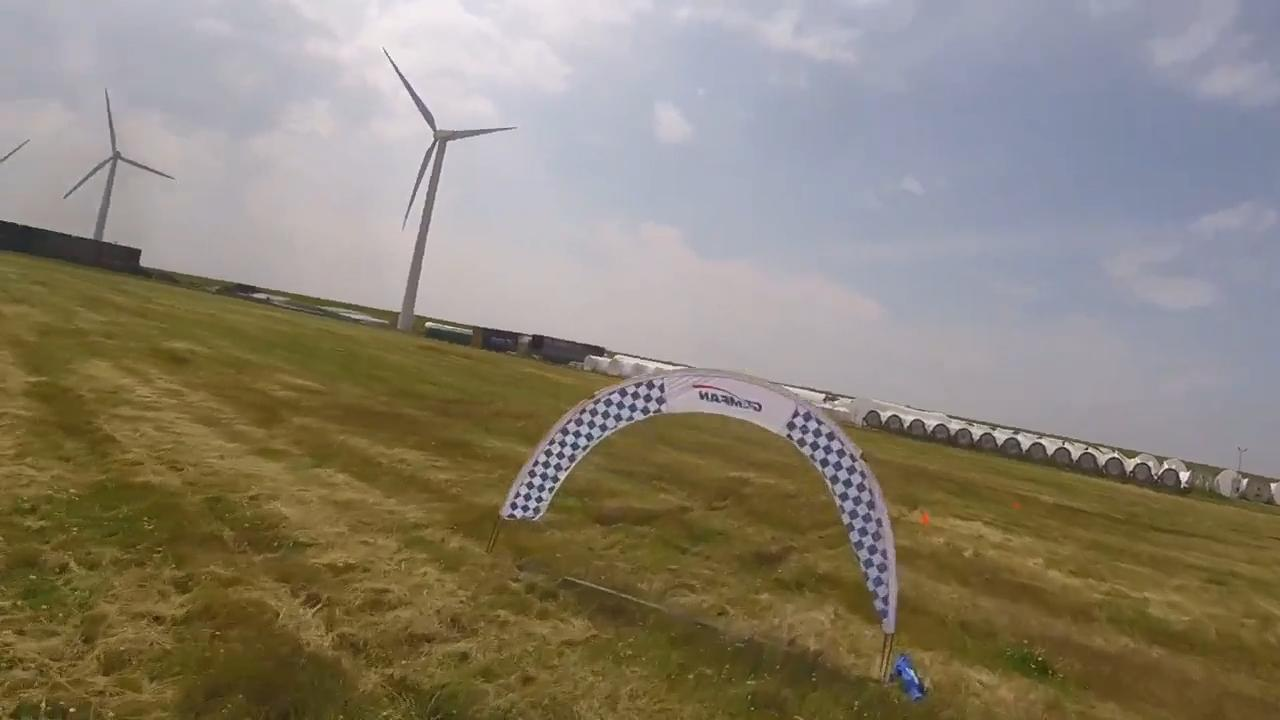gate: (498, 373, 899, 638)
